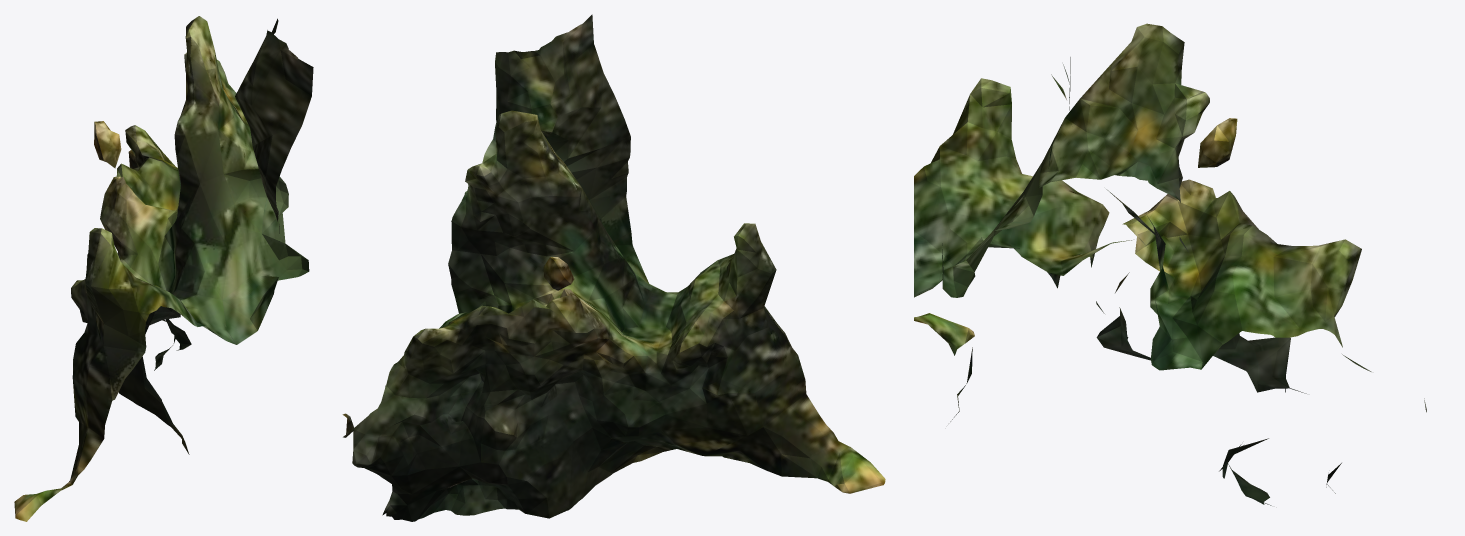
3 views of the same model, side by side, from view 1: azimuth 30°, elevation 25°; view 2: azimuth 150°, elevation 25°; view 3: azimuth 270°, elevation 25° (orthographic). The views are drawn at different scales.
Bounding box in the file's own units: 1.47 × 1.67 × 1.67.
Materials: 3 (3 with a texture image).
